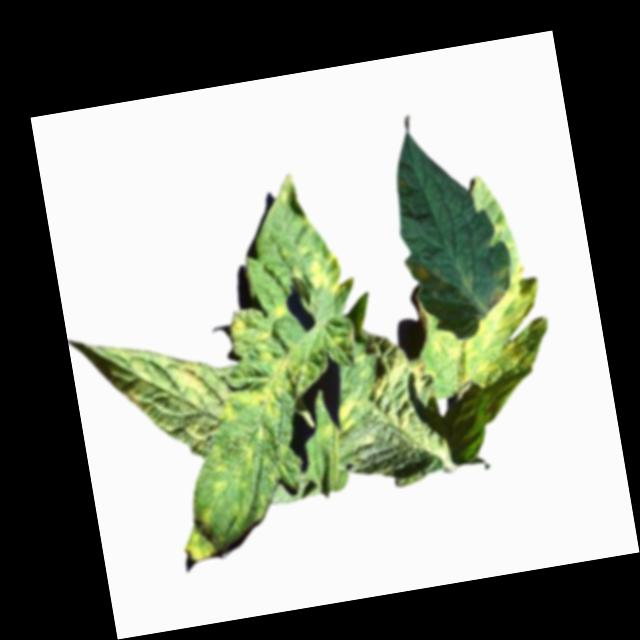Leaf_Mold: (401, 261, 555, 397), (210, 353, 304, 431), (303, 243, 353, 304), (227, 302, 289, 347), (179, 520, 217, 566), (333, 396, 369, 434), (171, 357, 206, 389)
